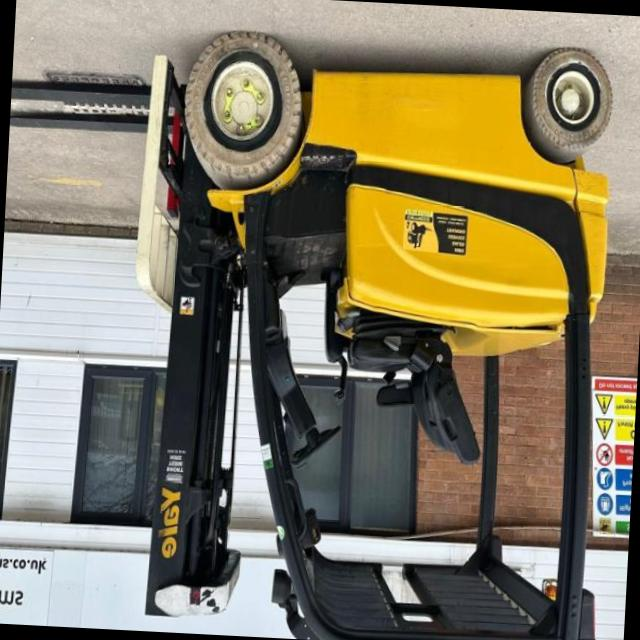forklift: (92, 4, 635, 640)
